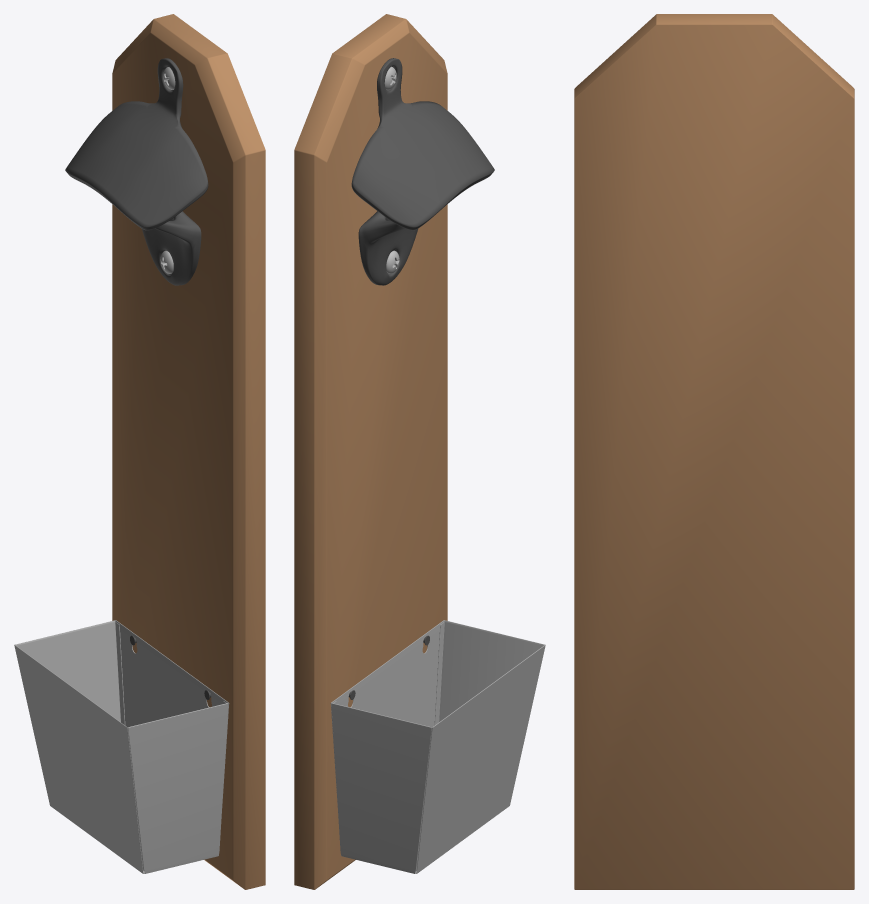
The model's file is wall_decapper.fbx.
3 renders of one model, left to right at view 1: azimuth 30°, elevation 25°; view 2: azimuth 150°, elevation 25°; view 3: azimuth 270°, elevation 25°, orthographic. The views are drawn at different scales.
Parts seen in each view (by area): view 1: BottleOpenerPlank, BottleOpenerCapCatcher, BottleOpener; view 2: BottleOpenerPlank, BottleOpenerCapCatcher, BottleOpener; view 3: BottleOpenerPlank.
Boxes of the visible parts, x1,y1,x2,y2 form: BottleOpenerPlank: [112, 14, 265, 889]; BottleOpenerCapCatcher: [14, 620, 229, 873]; BottleOpener: [65, 58, 208, 285]; BottleOpenerPlank: [294, 14, 447, 889]; BottleOpenerCapCatcher: [330, 620, 545, 873]; BottleOpener: [351, 58, 494, 285]; BottleOpenerPlank: [574, 14, 854, 889].
Bounding box in the file's own units: 4.72 × 27.88 × 8.17.
